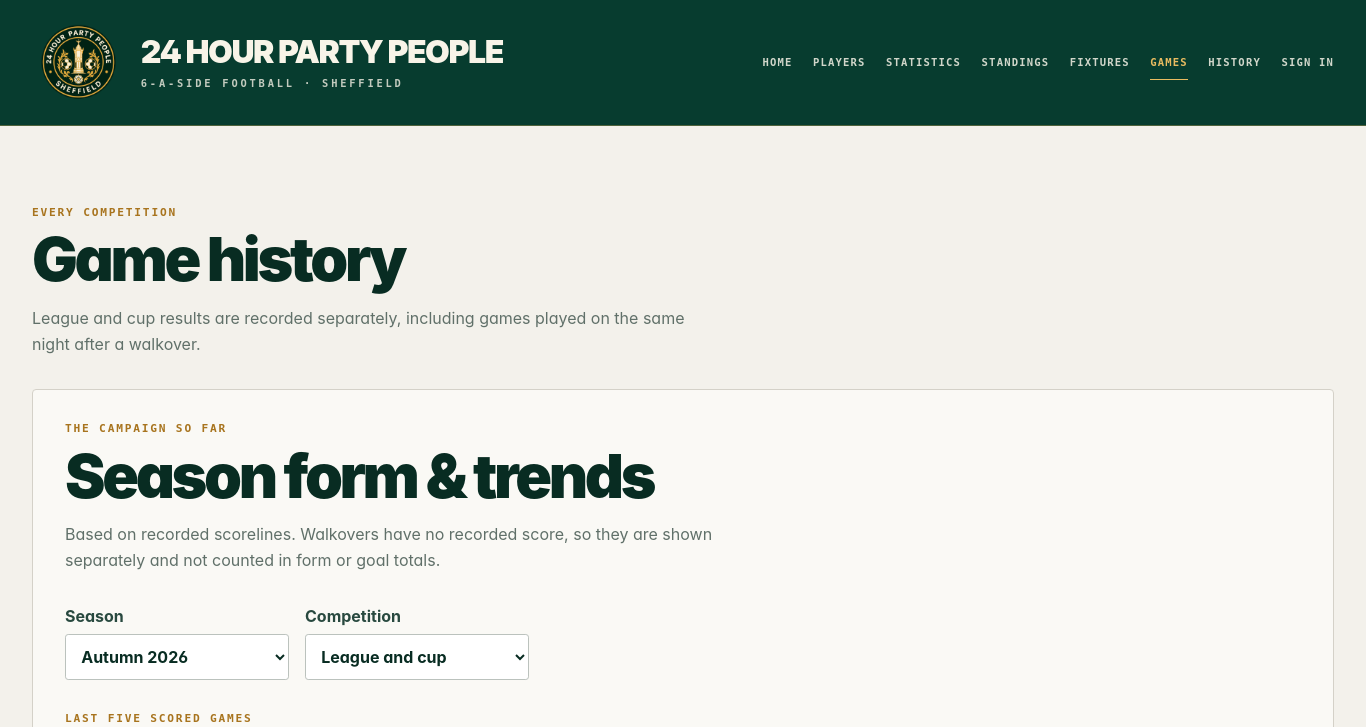
Scenario: App › filters season form and goal-difference trends by season and competition
The width and height of the screenshot is (1366, 727).
Select "League only" in the dropdown labelled "Competition". click: [417, 657]
box: [305,634,529,680]
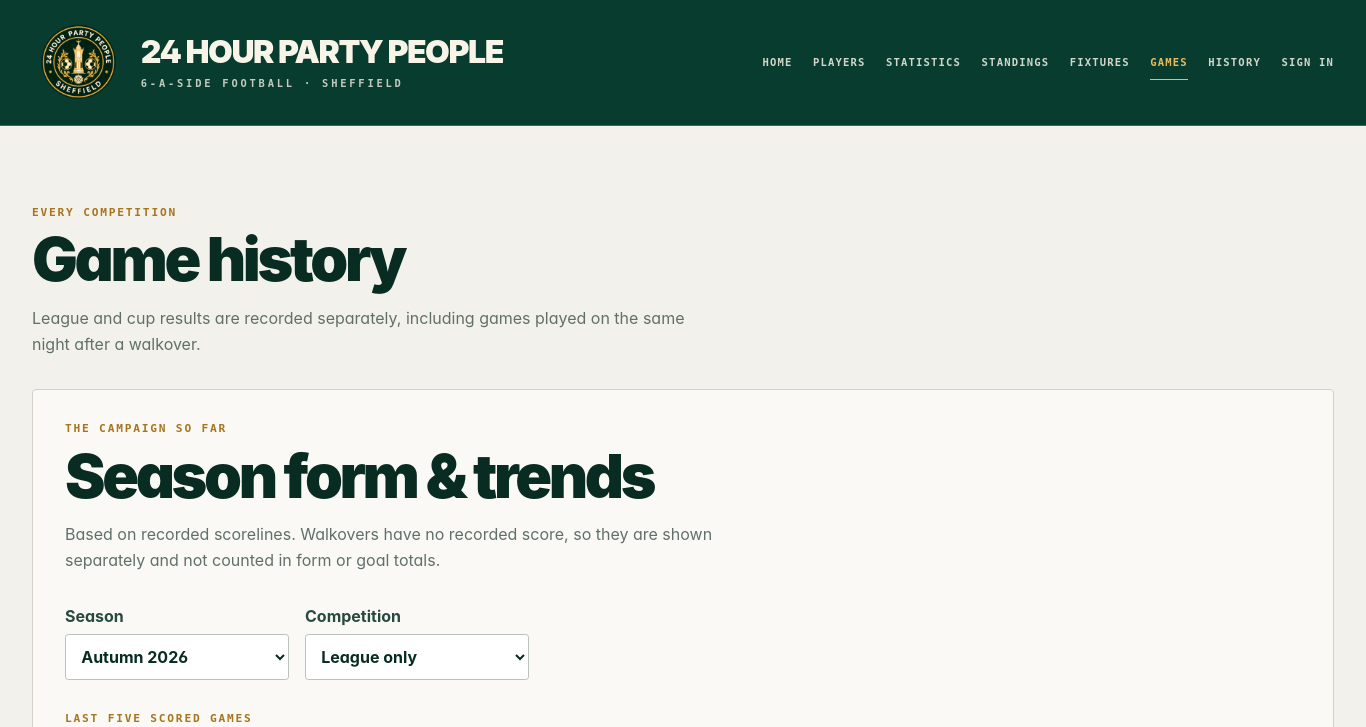
Select "Autumn 2025" in the dropdown labelled "Season". click: [177, 657]
box: [65,634,289,680]
(page scrolled)
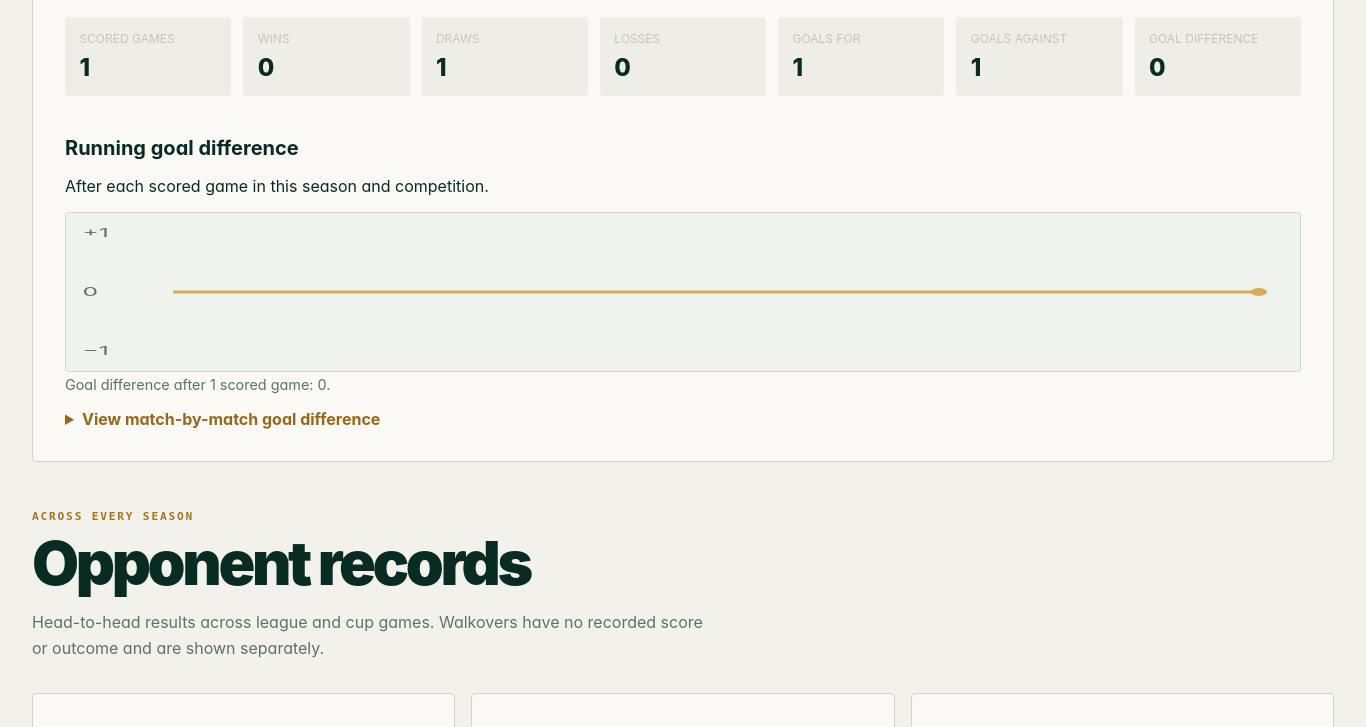
Now the text "Goal difference after 1 scored game: 0." is shown, box [65,376,330,393]
